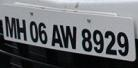0: (27, 18, 38, 42)
2: (102, 29, 117, 54)
6: (36, 20, 48, 44)
8: (80, 26, 93, 52)
9: (115, 30, 129, 56), (90, 28, 104, 53)
A: (48, 23, 63, 47)
H: (14, 17, 28, 40)
M: (1, 14, 16, 38)
W: (57, 23, 76, 48)
